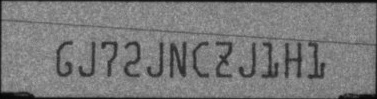1: (307, 40, 326, 79), (261, 39, 278, 78)
2: (123, 40, 141, 77)
7: (101, 41, 118, 76)
C: (191, 40, 210, 78)
G: (55, 40, 73, 77)
H: (282, 39, 301, 78)
J: (78, 40, 96, 77), (238, 40, 256, 77), (146, 40, 163, 77)
N: (168, 39, 188, 79)
Z: (215, 38, 232, 78)
